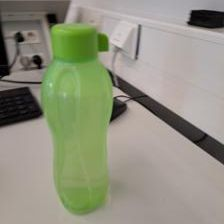bottle: (41, 20, 115, 216)
